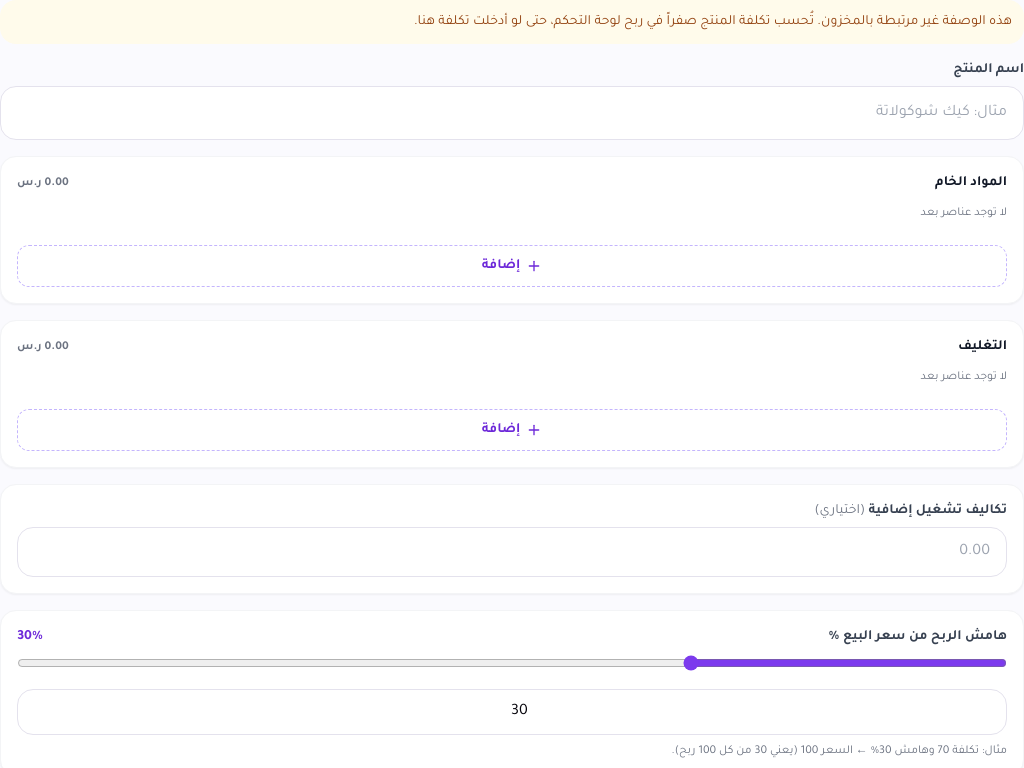
Test case: product margin controls › preserves fractional margins and clamps negative values in both controls
Replace the text in the number field named "نسبة الربح بالنسبة المئوية" with "30.5" at (512, 712), box [17,689,1007,735]
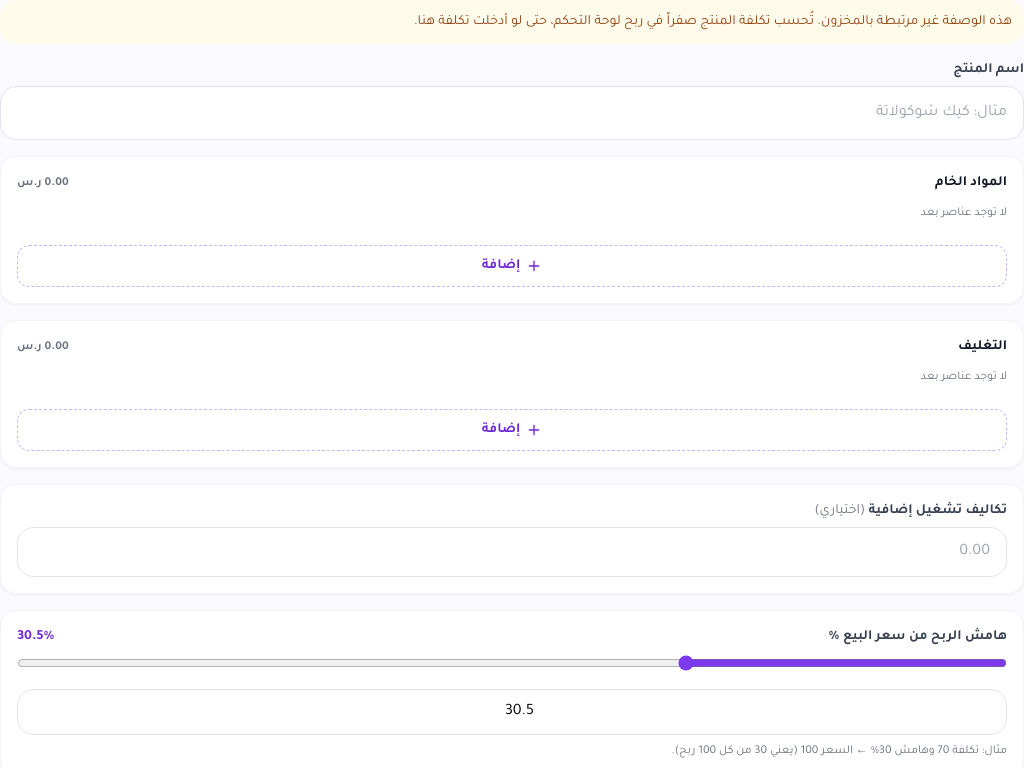
Now the slider holds "30.5", box [17,655,1007,671]
Replace the text in the number field named "نسبة الربح بالنسبة المئوية" with "-1" at (512, 712), box [17,689,1007,735]
(page scrolled)
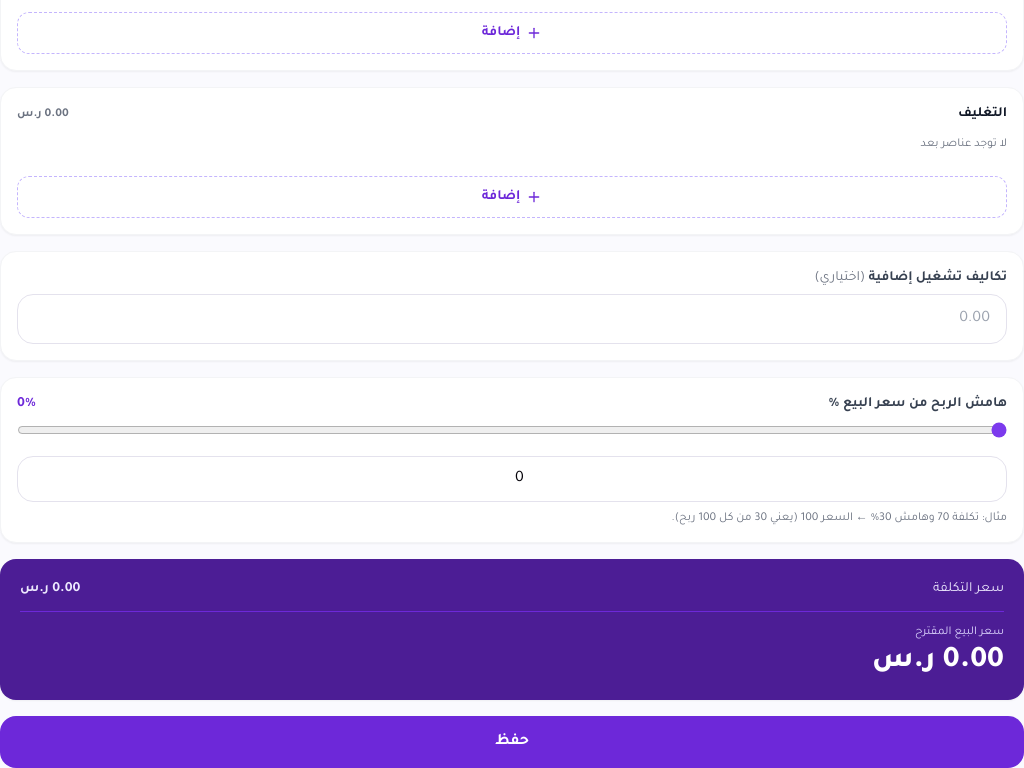
Expected: the button "حفظ" is enabled, [0,716,1023,767]
Now the number field named "نسبة الربح بالنسبة المئوية" holds "0", box [17,456,1007,502]
Now the slider holds "0", box [17,422,1007,438]
